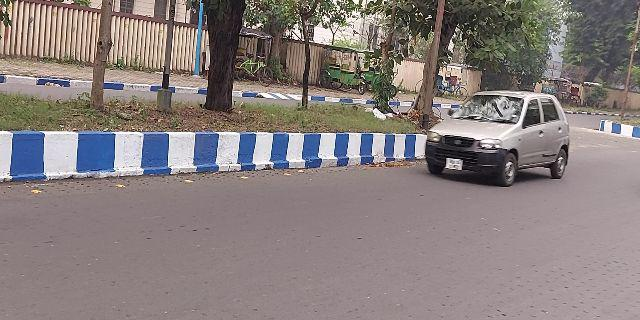Car: (427, 90, 577, 185)
